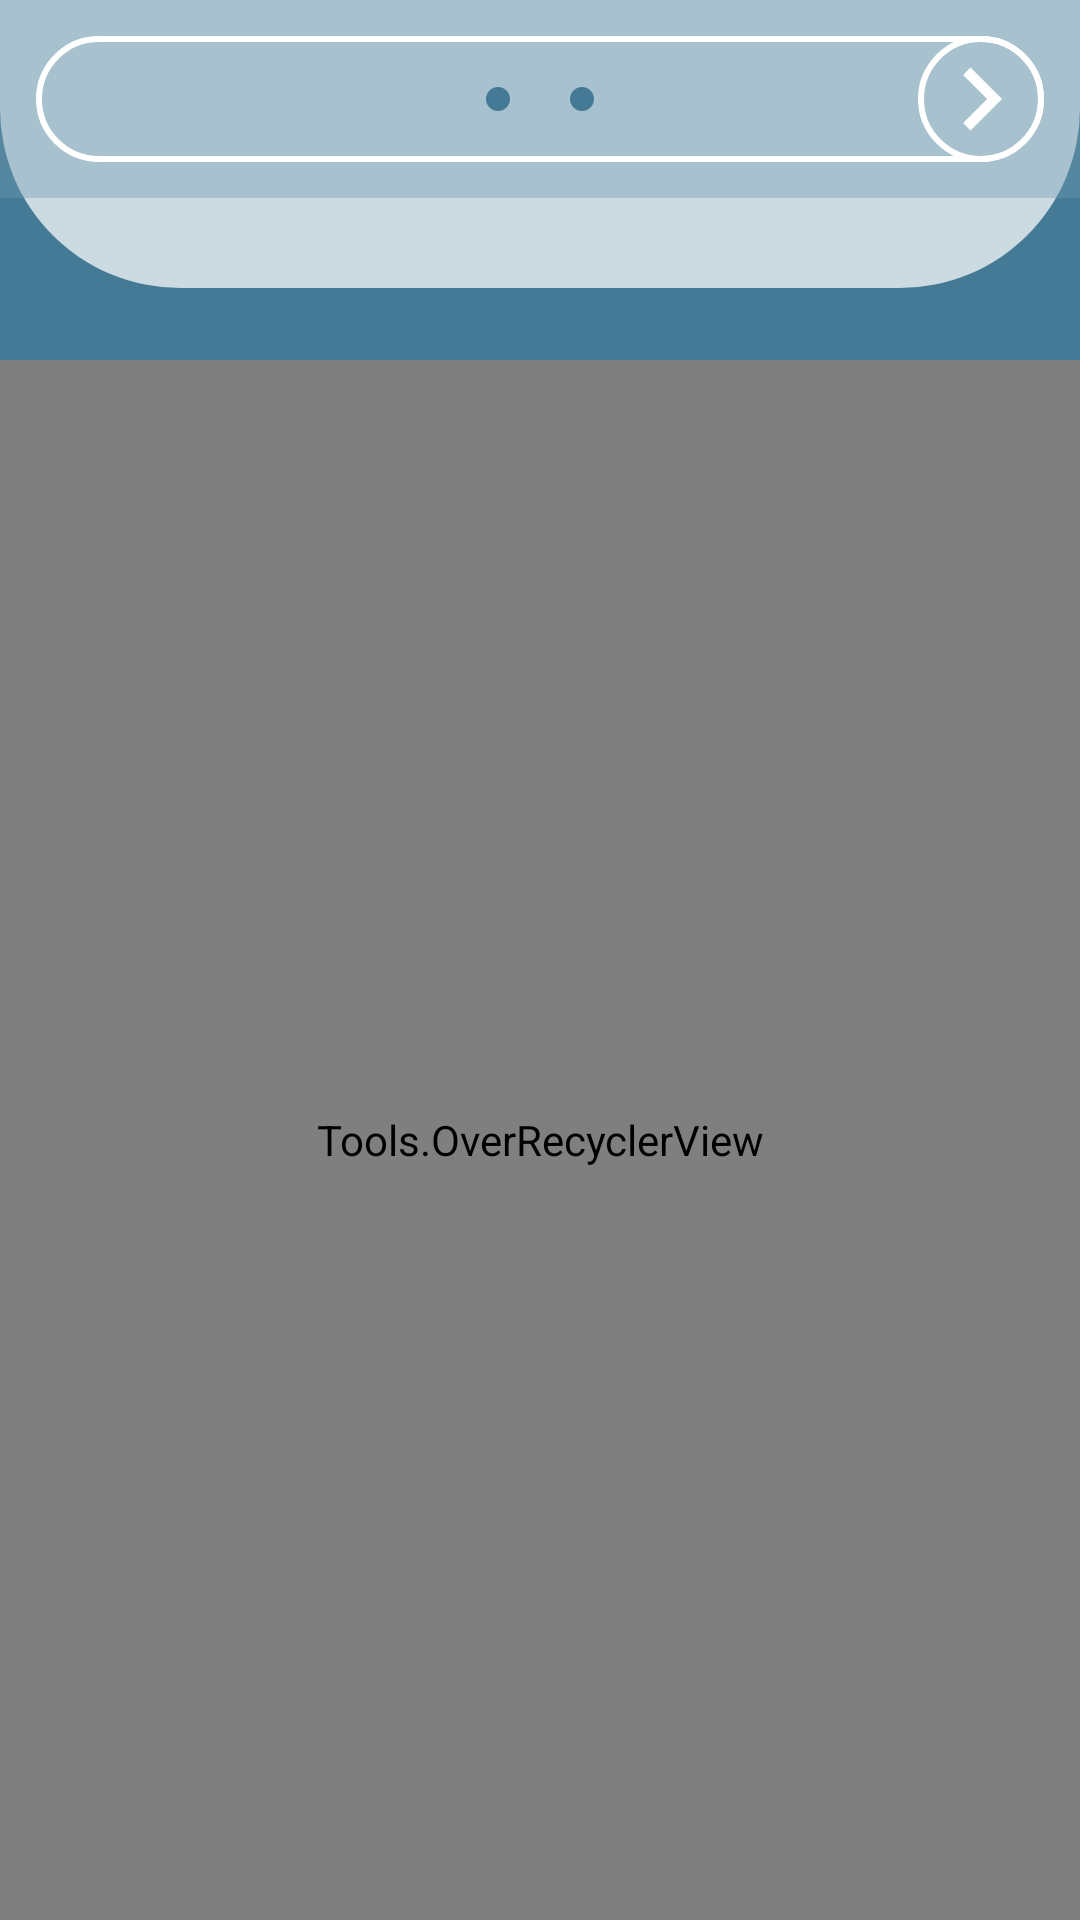

Named icons in this screenshot (1080×1920) and their centers, (x=x, y=y):
right: (x=981, y=99)
